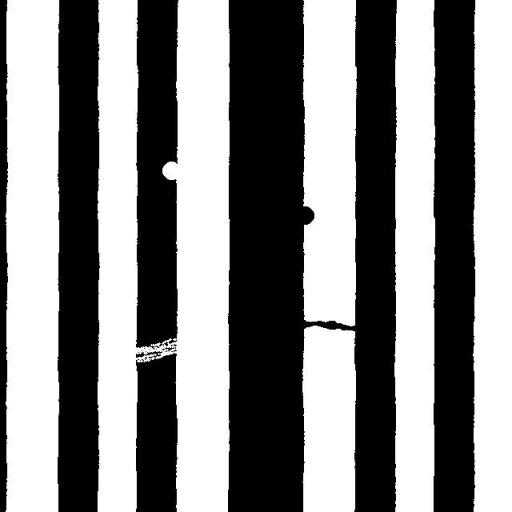mousebite: (154, 154, 188, 187)
open: (110, 330, 190, 370)
short: (291, 312, 364, 338)
spur: (288, 198, 322, 232)
